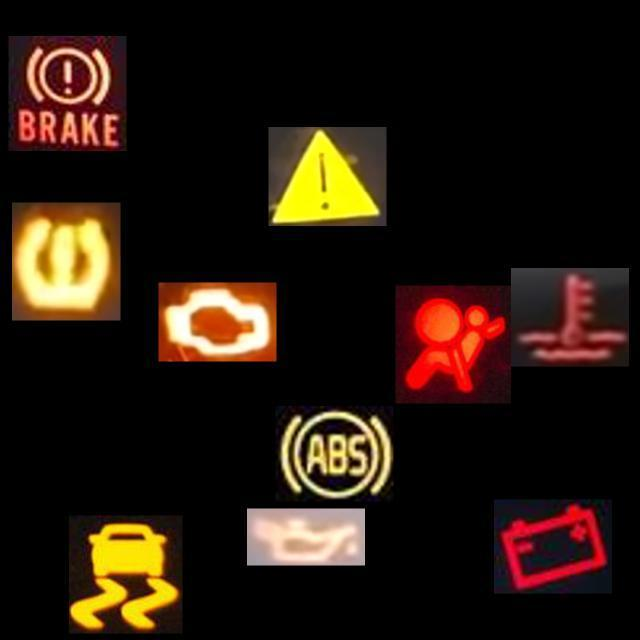Central Warning lamp: (268, 127, 386, 226)
Engine cooling system: (511, 268, 629, 366)
